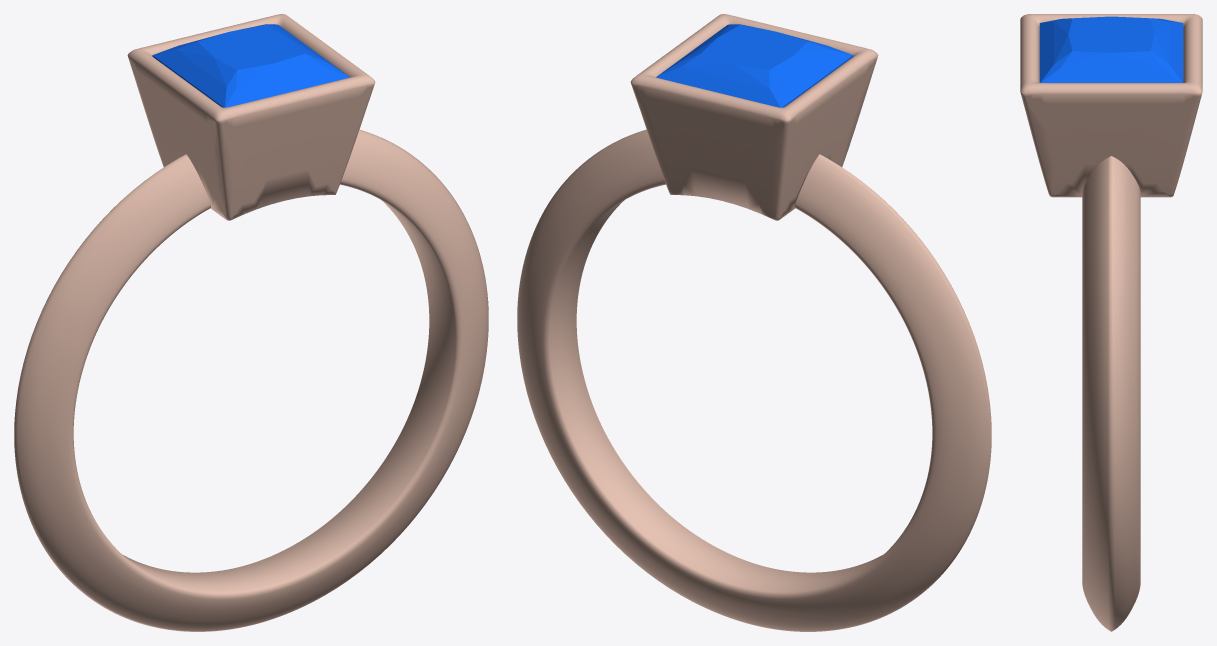
File: bluesapphire-princess-rosegold-bezelset-knifeedge-solitaire.glb
The picture shows the model from 3 angles, left to right: view 1: azimuth 30°, elevation 25°; view 2: azimuth 150°, elevation 25°; view 3: azimuth 270°, elevation 25°; orthographic projection.
Parts seen in each view (by area): view 1: metal, stone; view 2: metal, stone; view 3: metal, stone.
Boxes of the visible parts, bbox=[...] form: metal: bbox=[14, 14, 488, 631]; stone: bbox=[152, 24, 349, 107]; metal: bbox=[517, 14, 991, 631]; stone: bbox=[656, 24, 853, 107]; metal: bbox=[1020, 14, 1202, 631]; stone: bbox=[1039, 16, 1183, 82].
Bounding box in the file's own units: 20.5 × 23.85 × 6.89.
